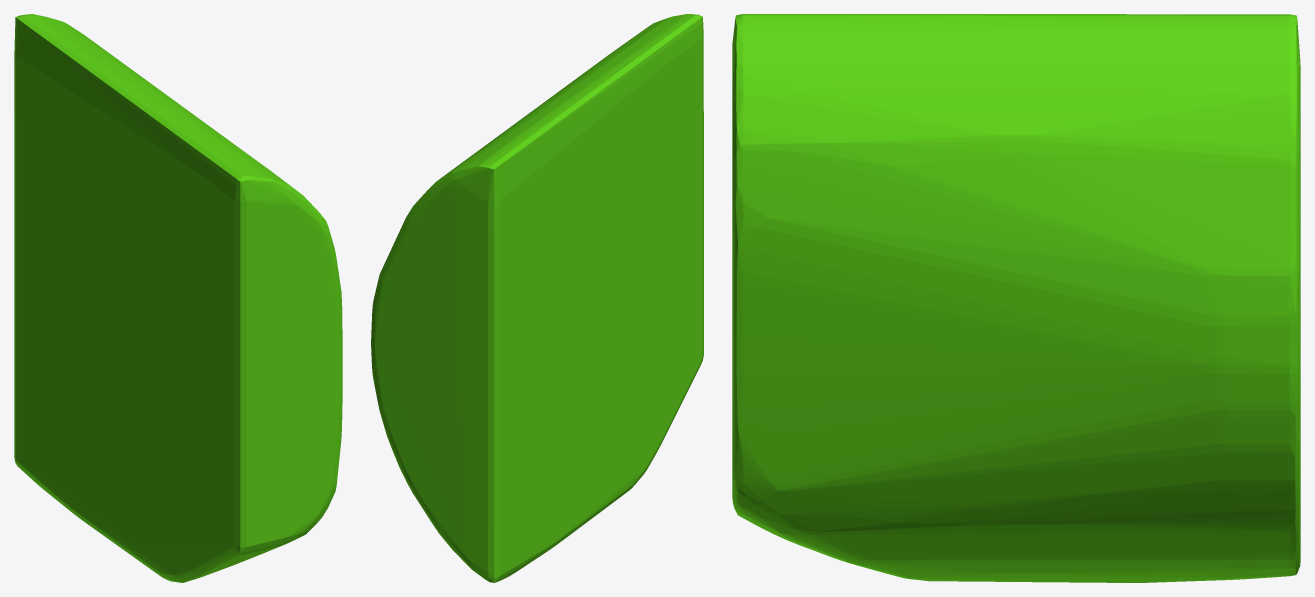
The model's file is right_f_proximal_part_17.obj.
3 views of the same model, side by side, from view 1: azimuth 30°, elevation 25°; view 2: azimuth 150°, elevation 25°; view 3: azimuth 270°, elevation 25° (orthographic). The views are drawn at different scales.
Bounding box in the file's own units: 5.3 × 16.85 × 15.28.
